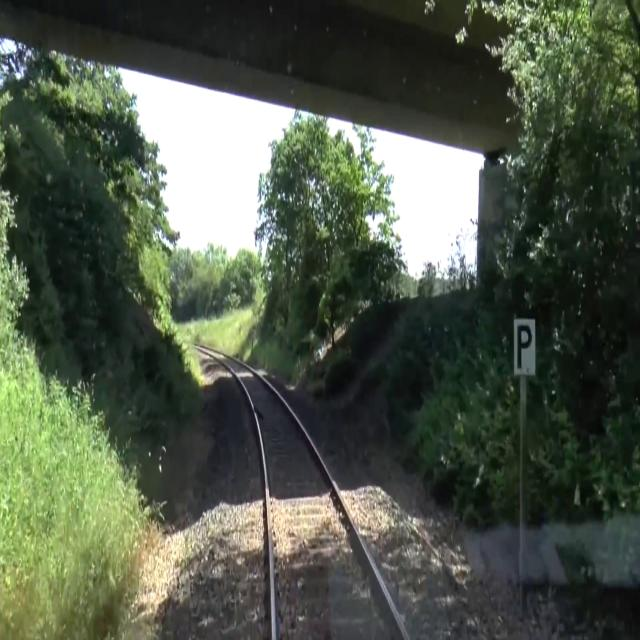rail-track: (214, 352, 402, 639)
